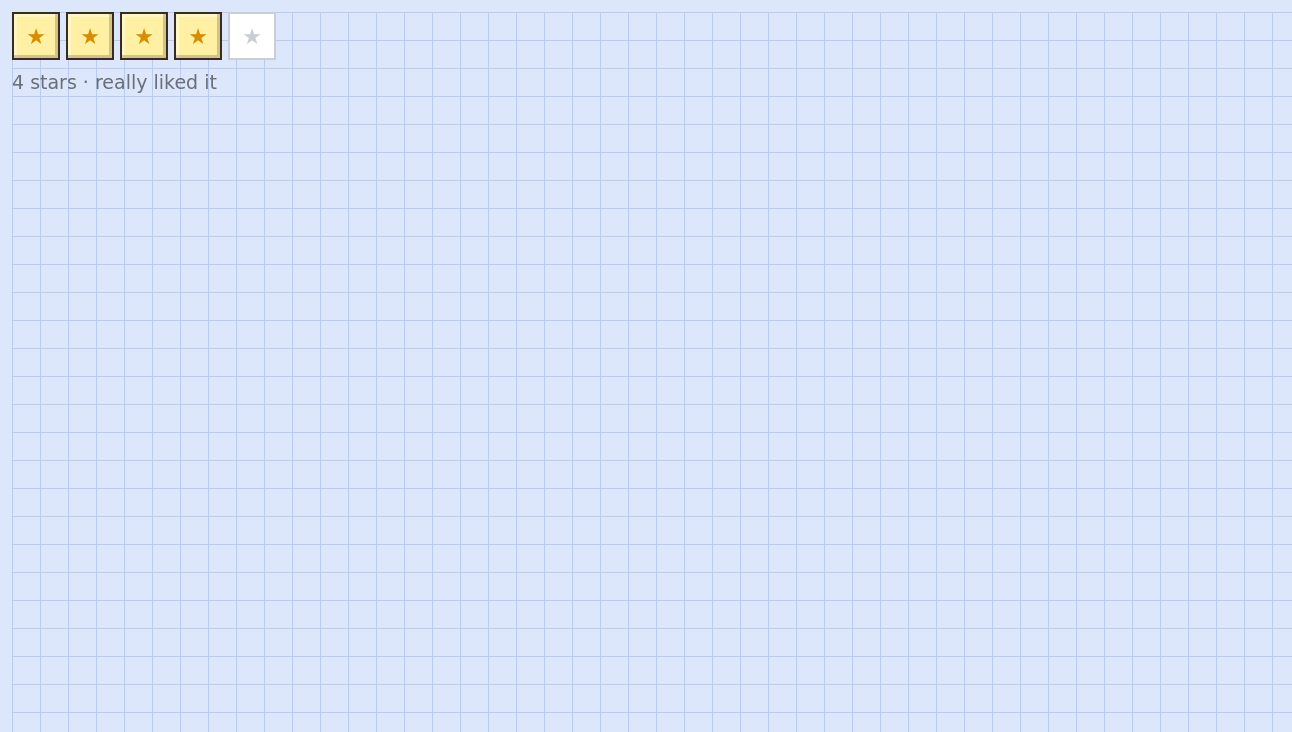
Test case: StarInput › changes with arrow keys, number keys and clicks, staying within 1..5
Press Tab
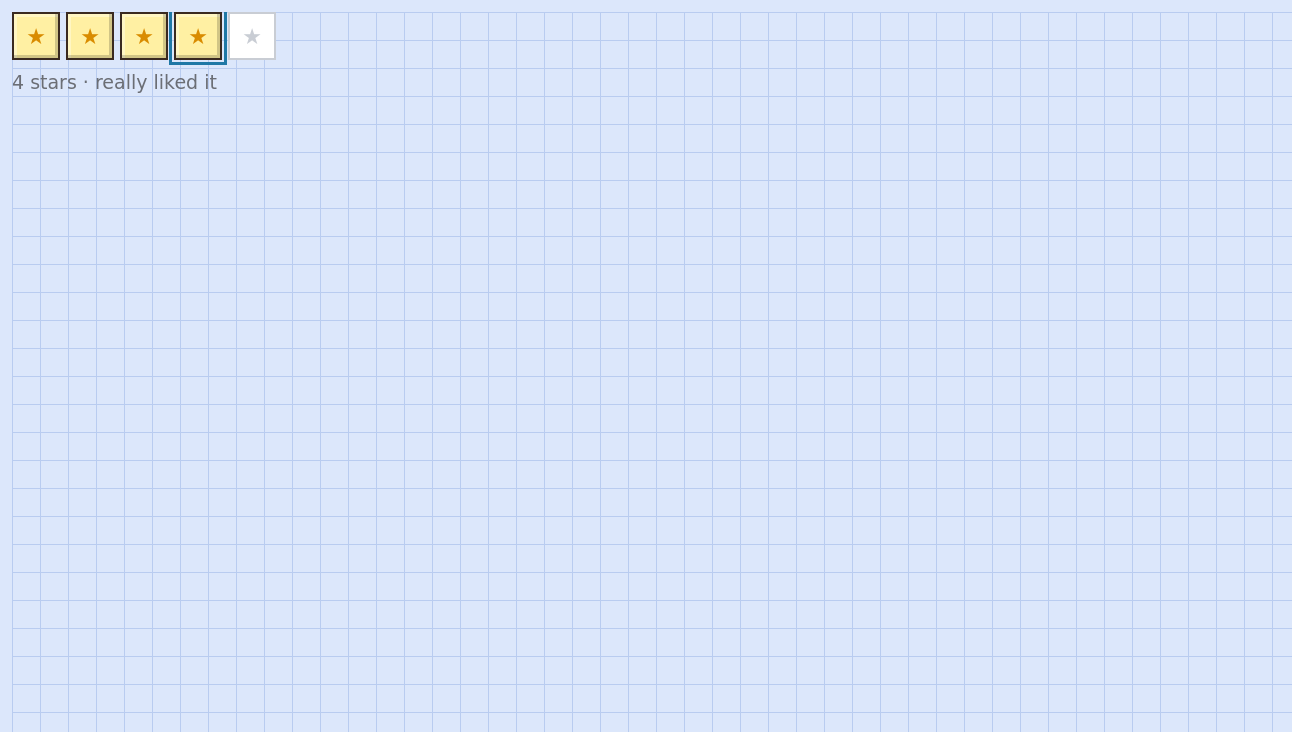
Press Arrowright Arrowright
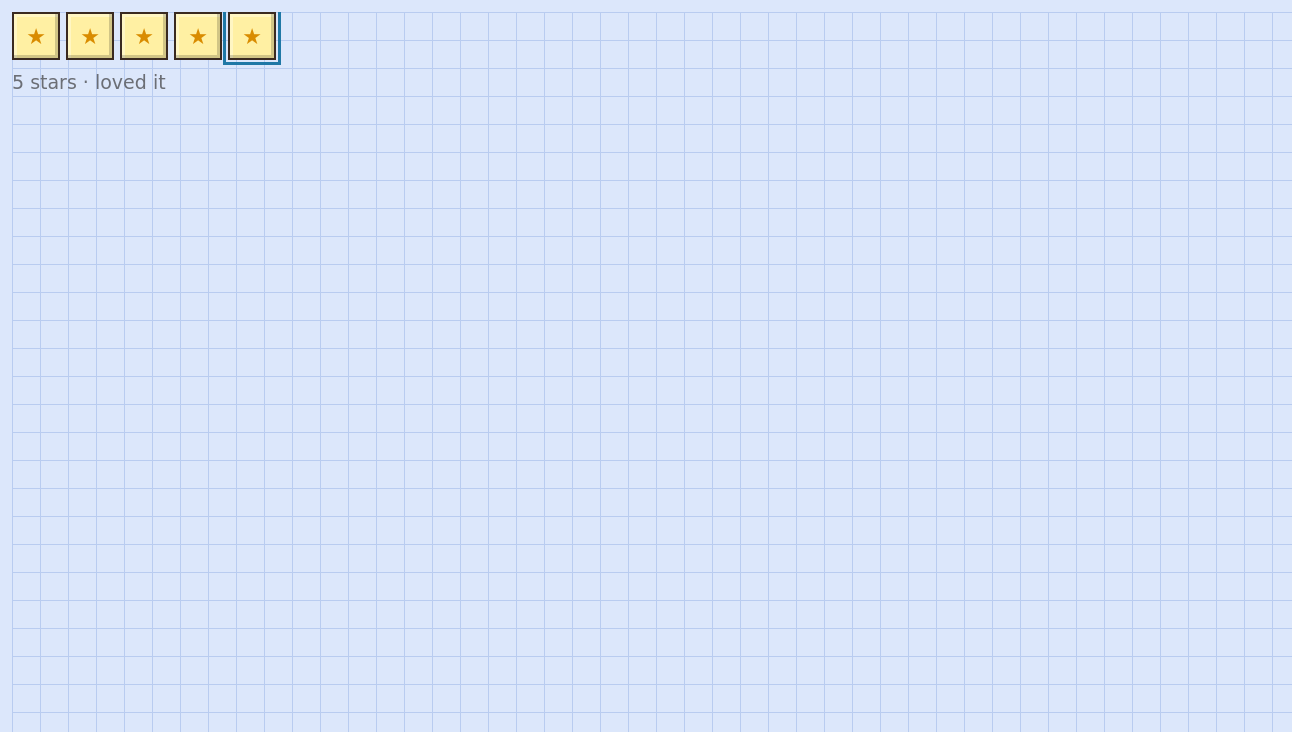
Expected: the radio button named "5 stars" is checked, top-left (228, 12), bottom-right (276, 60)
Type keys "2"
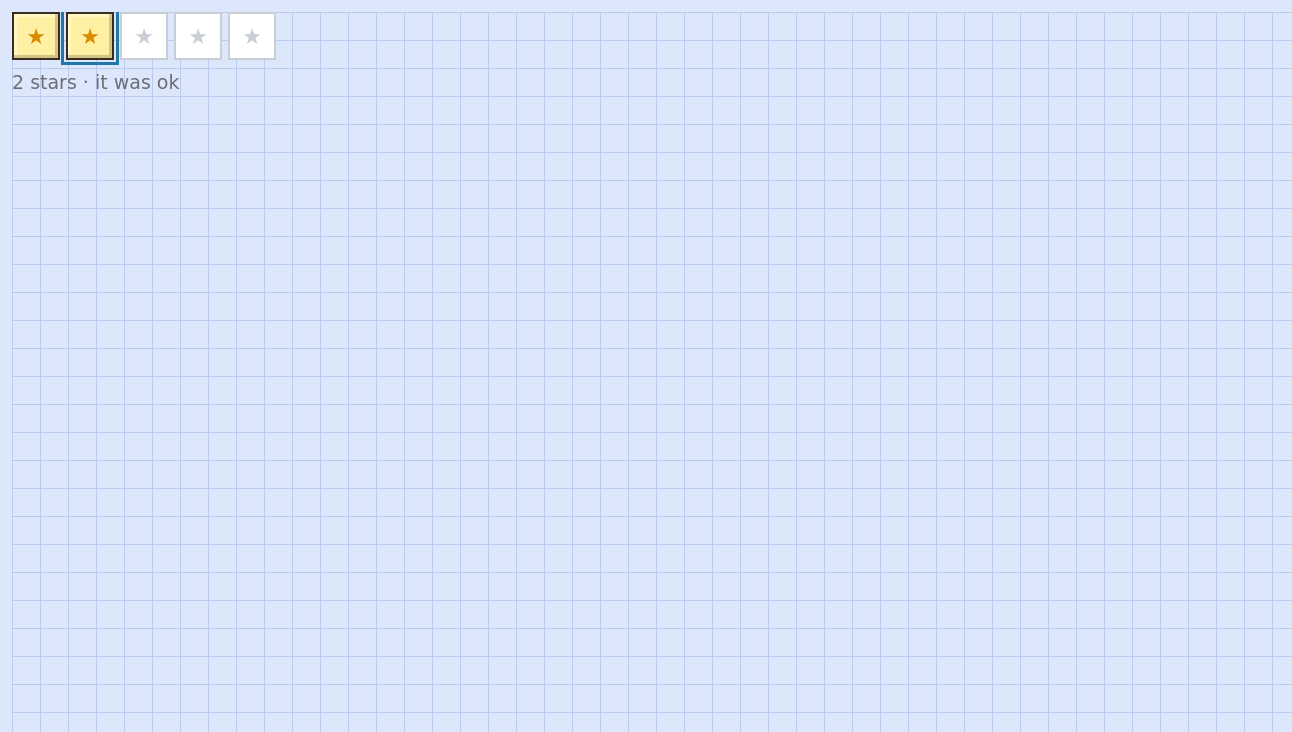
Expected: the text "2 stars · it was ok" is shown, top-left (12, 71), bottom-right (180, 93)
Press Arrowleft Arrowleft
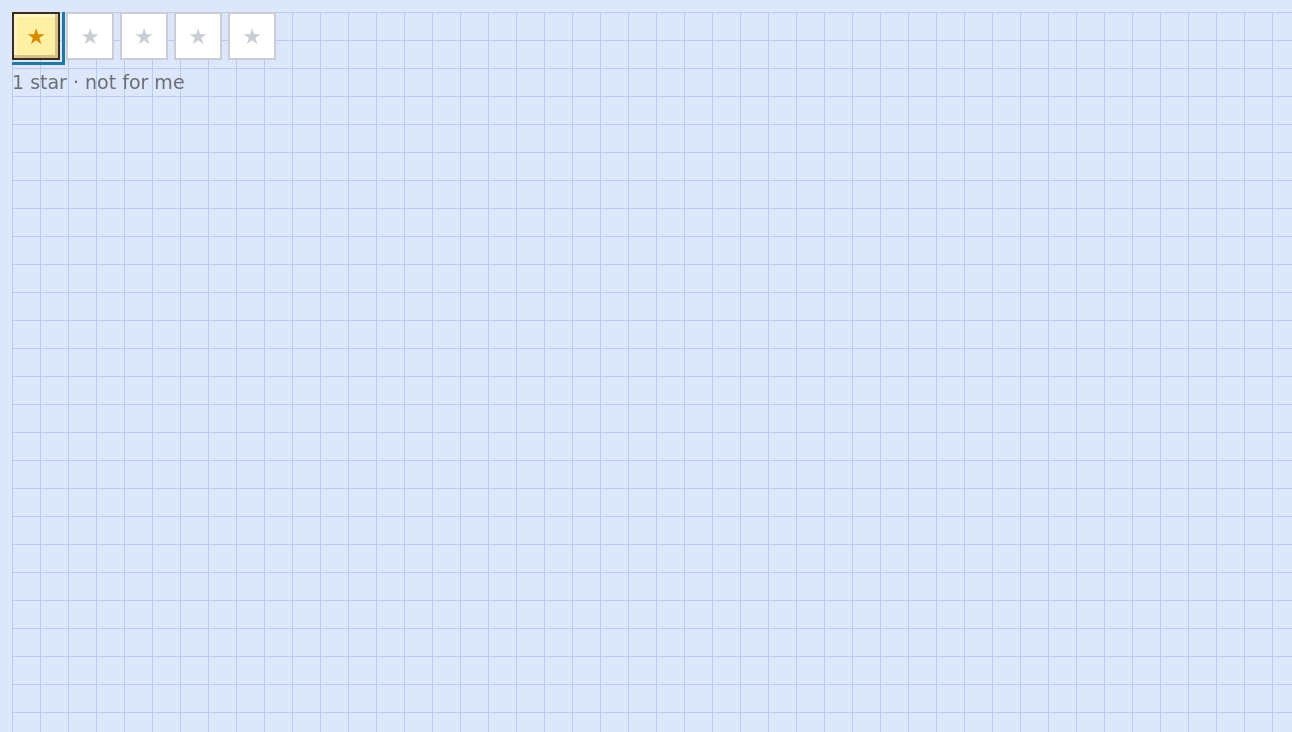
Click the radio button named "5 stars" at (252, 36), box top-left (228, 12), bottom-right (276, 60)
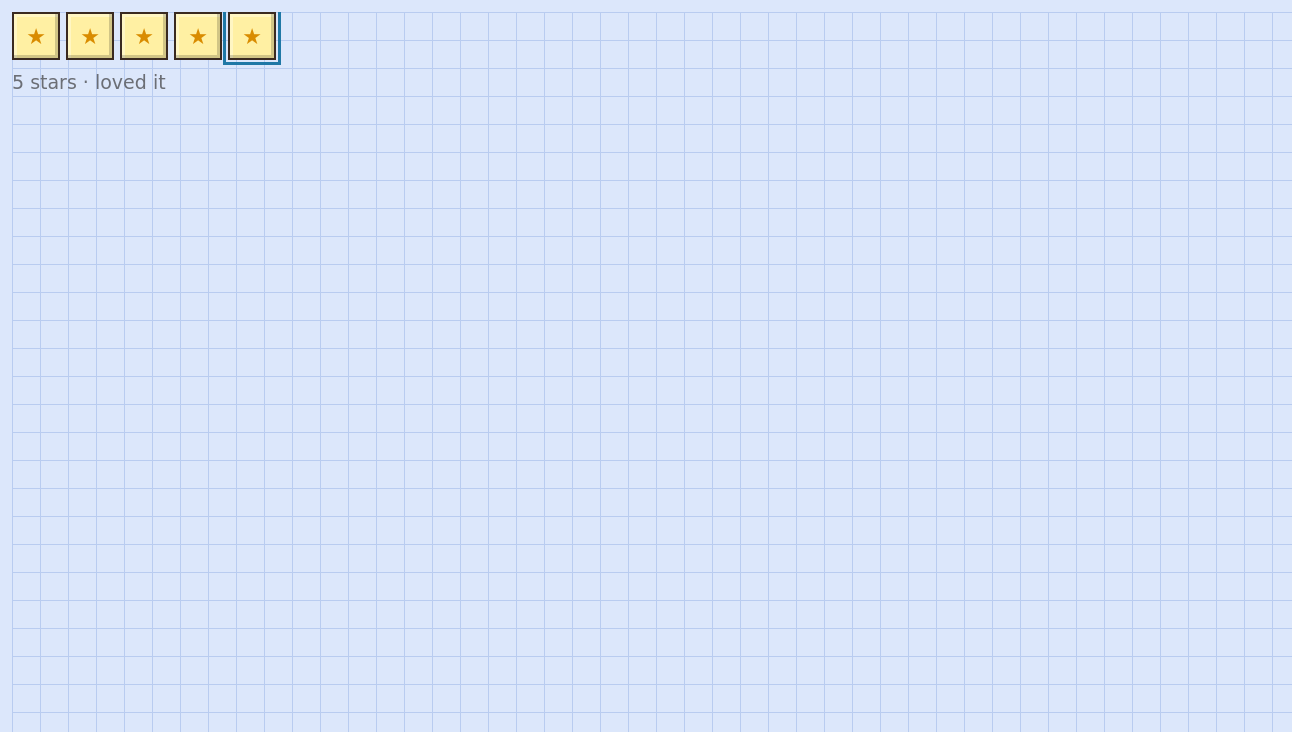
Expected: the text "5 stars · loved it" is shown, top-left (12, 71), bottom-right (166, 93)
